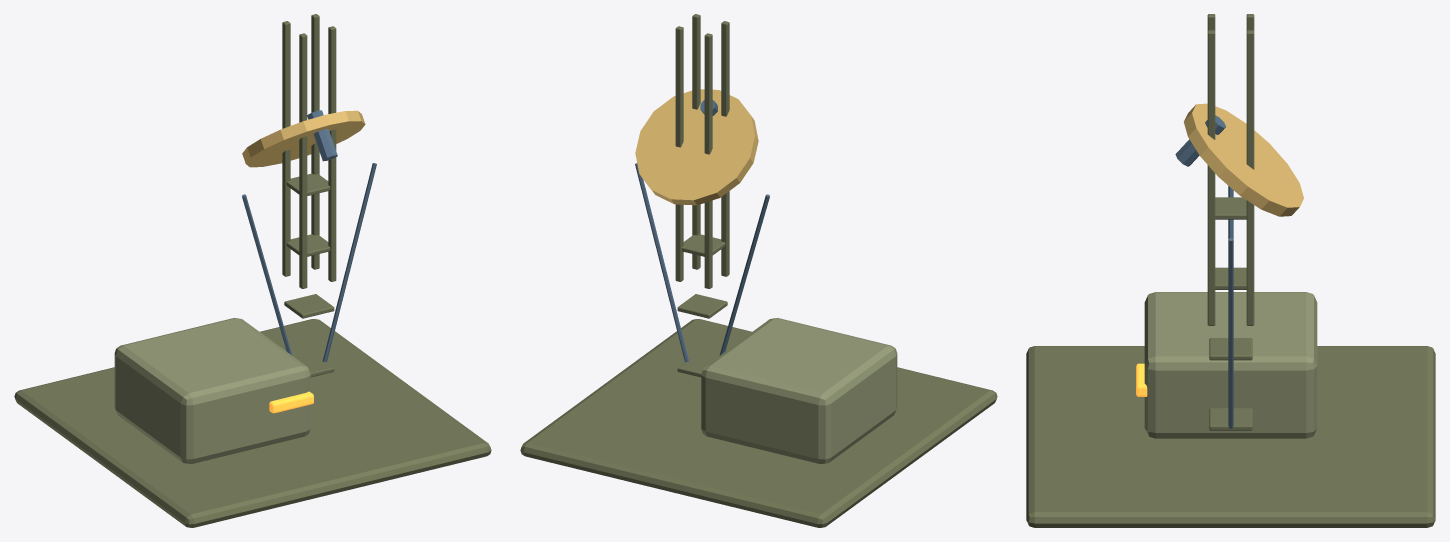
Rendered from com_radar_uplink.glb.
3 renders of one model, left to right at view 1: azimuth 30°, elevation 25°; view 2: azimuth 150°, elevation 25°; view 3: azimuth 270°, elevation 25°, orthographic. The views are drawn at different scales.
Visible parts, largest first — view 1: com_radar_uplink; view 2: com_radar_uplink; view 3: com_radar_uplink.
Boxes of the visible parts, bbox=[...] form: com_radar_uplink: bbox=[14, 14, 491, 527]; com_radar_uplink: bbox=[520, 14, 997, 527]; com_radar_uplink: bbox=[1026, 14, 1435, 527].
Bounding box in the file's own units: 1.9 × 2.32 × 1.9.
